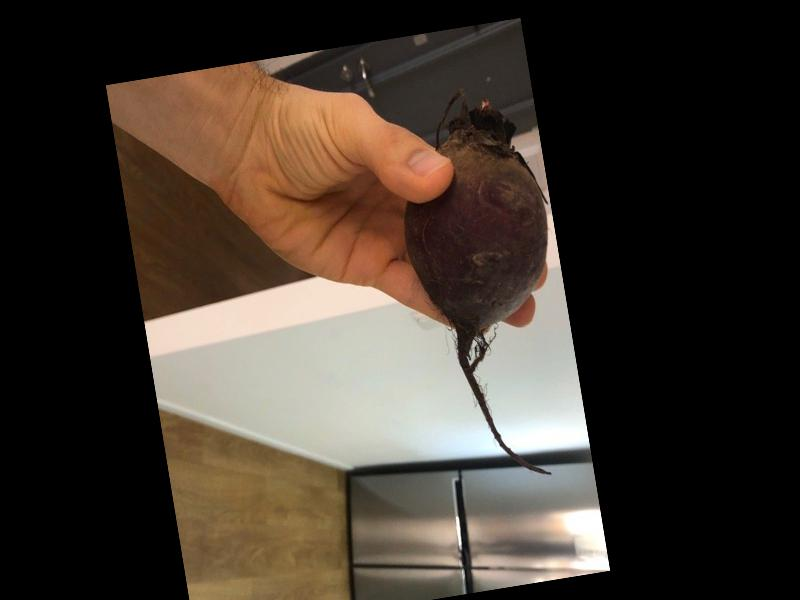Beet: (386, 80, 590, 489)
